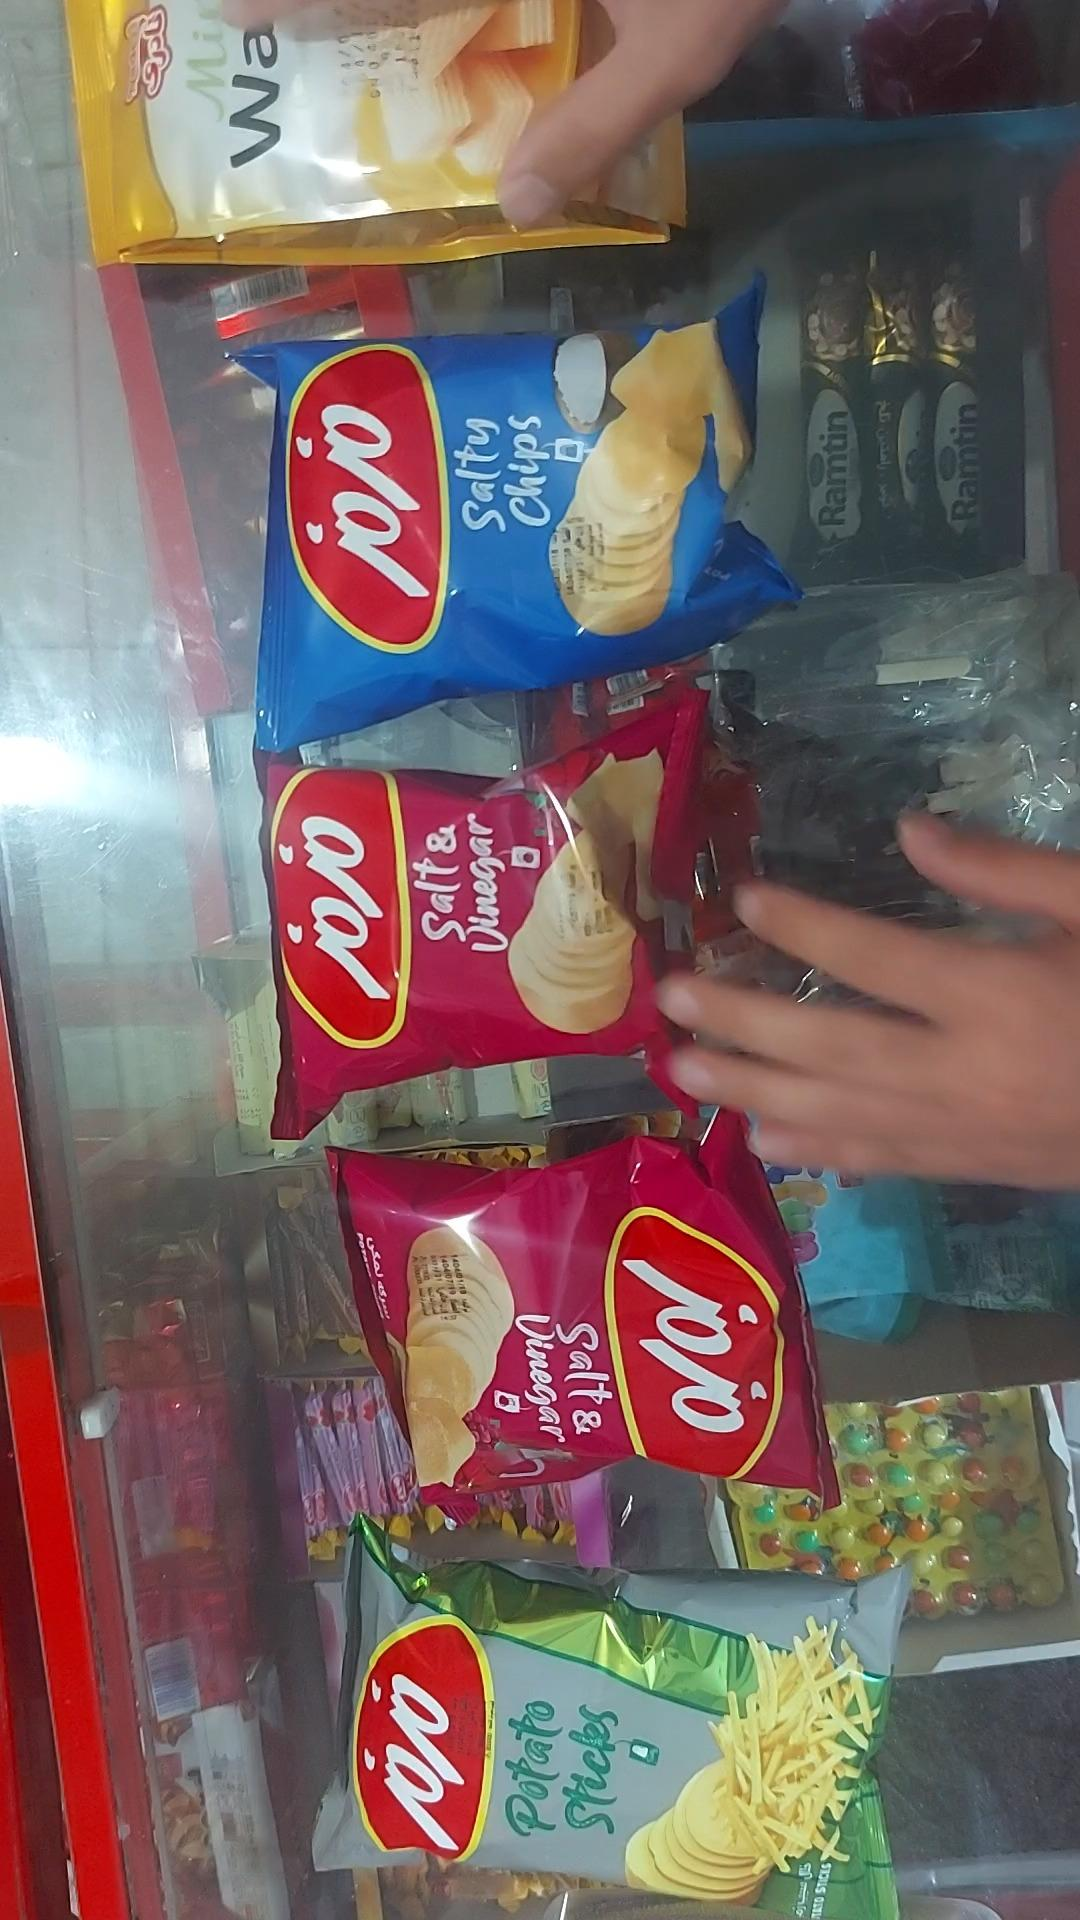Maz Maz potato sticks: (306, 1516, 920, 1919)
Maz Maz salty chips: (232, 273, 804, 753)
Maz Maz vinegar chips: (323, 1104, 843, 1534), (260, 705, 703, 1143)
Naderi mini wafer: (63, 0, 688, 265)
